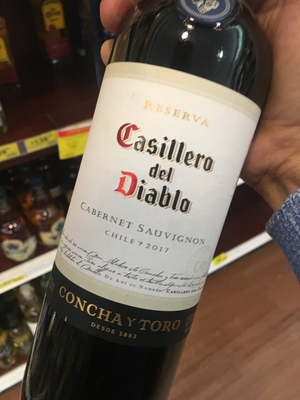casillero del diablo cabernet sauvignon: (43, 2, 266, 400)
